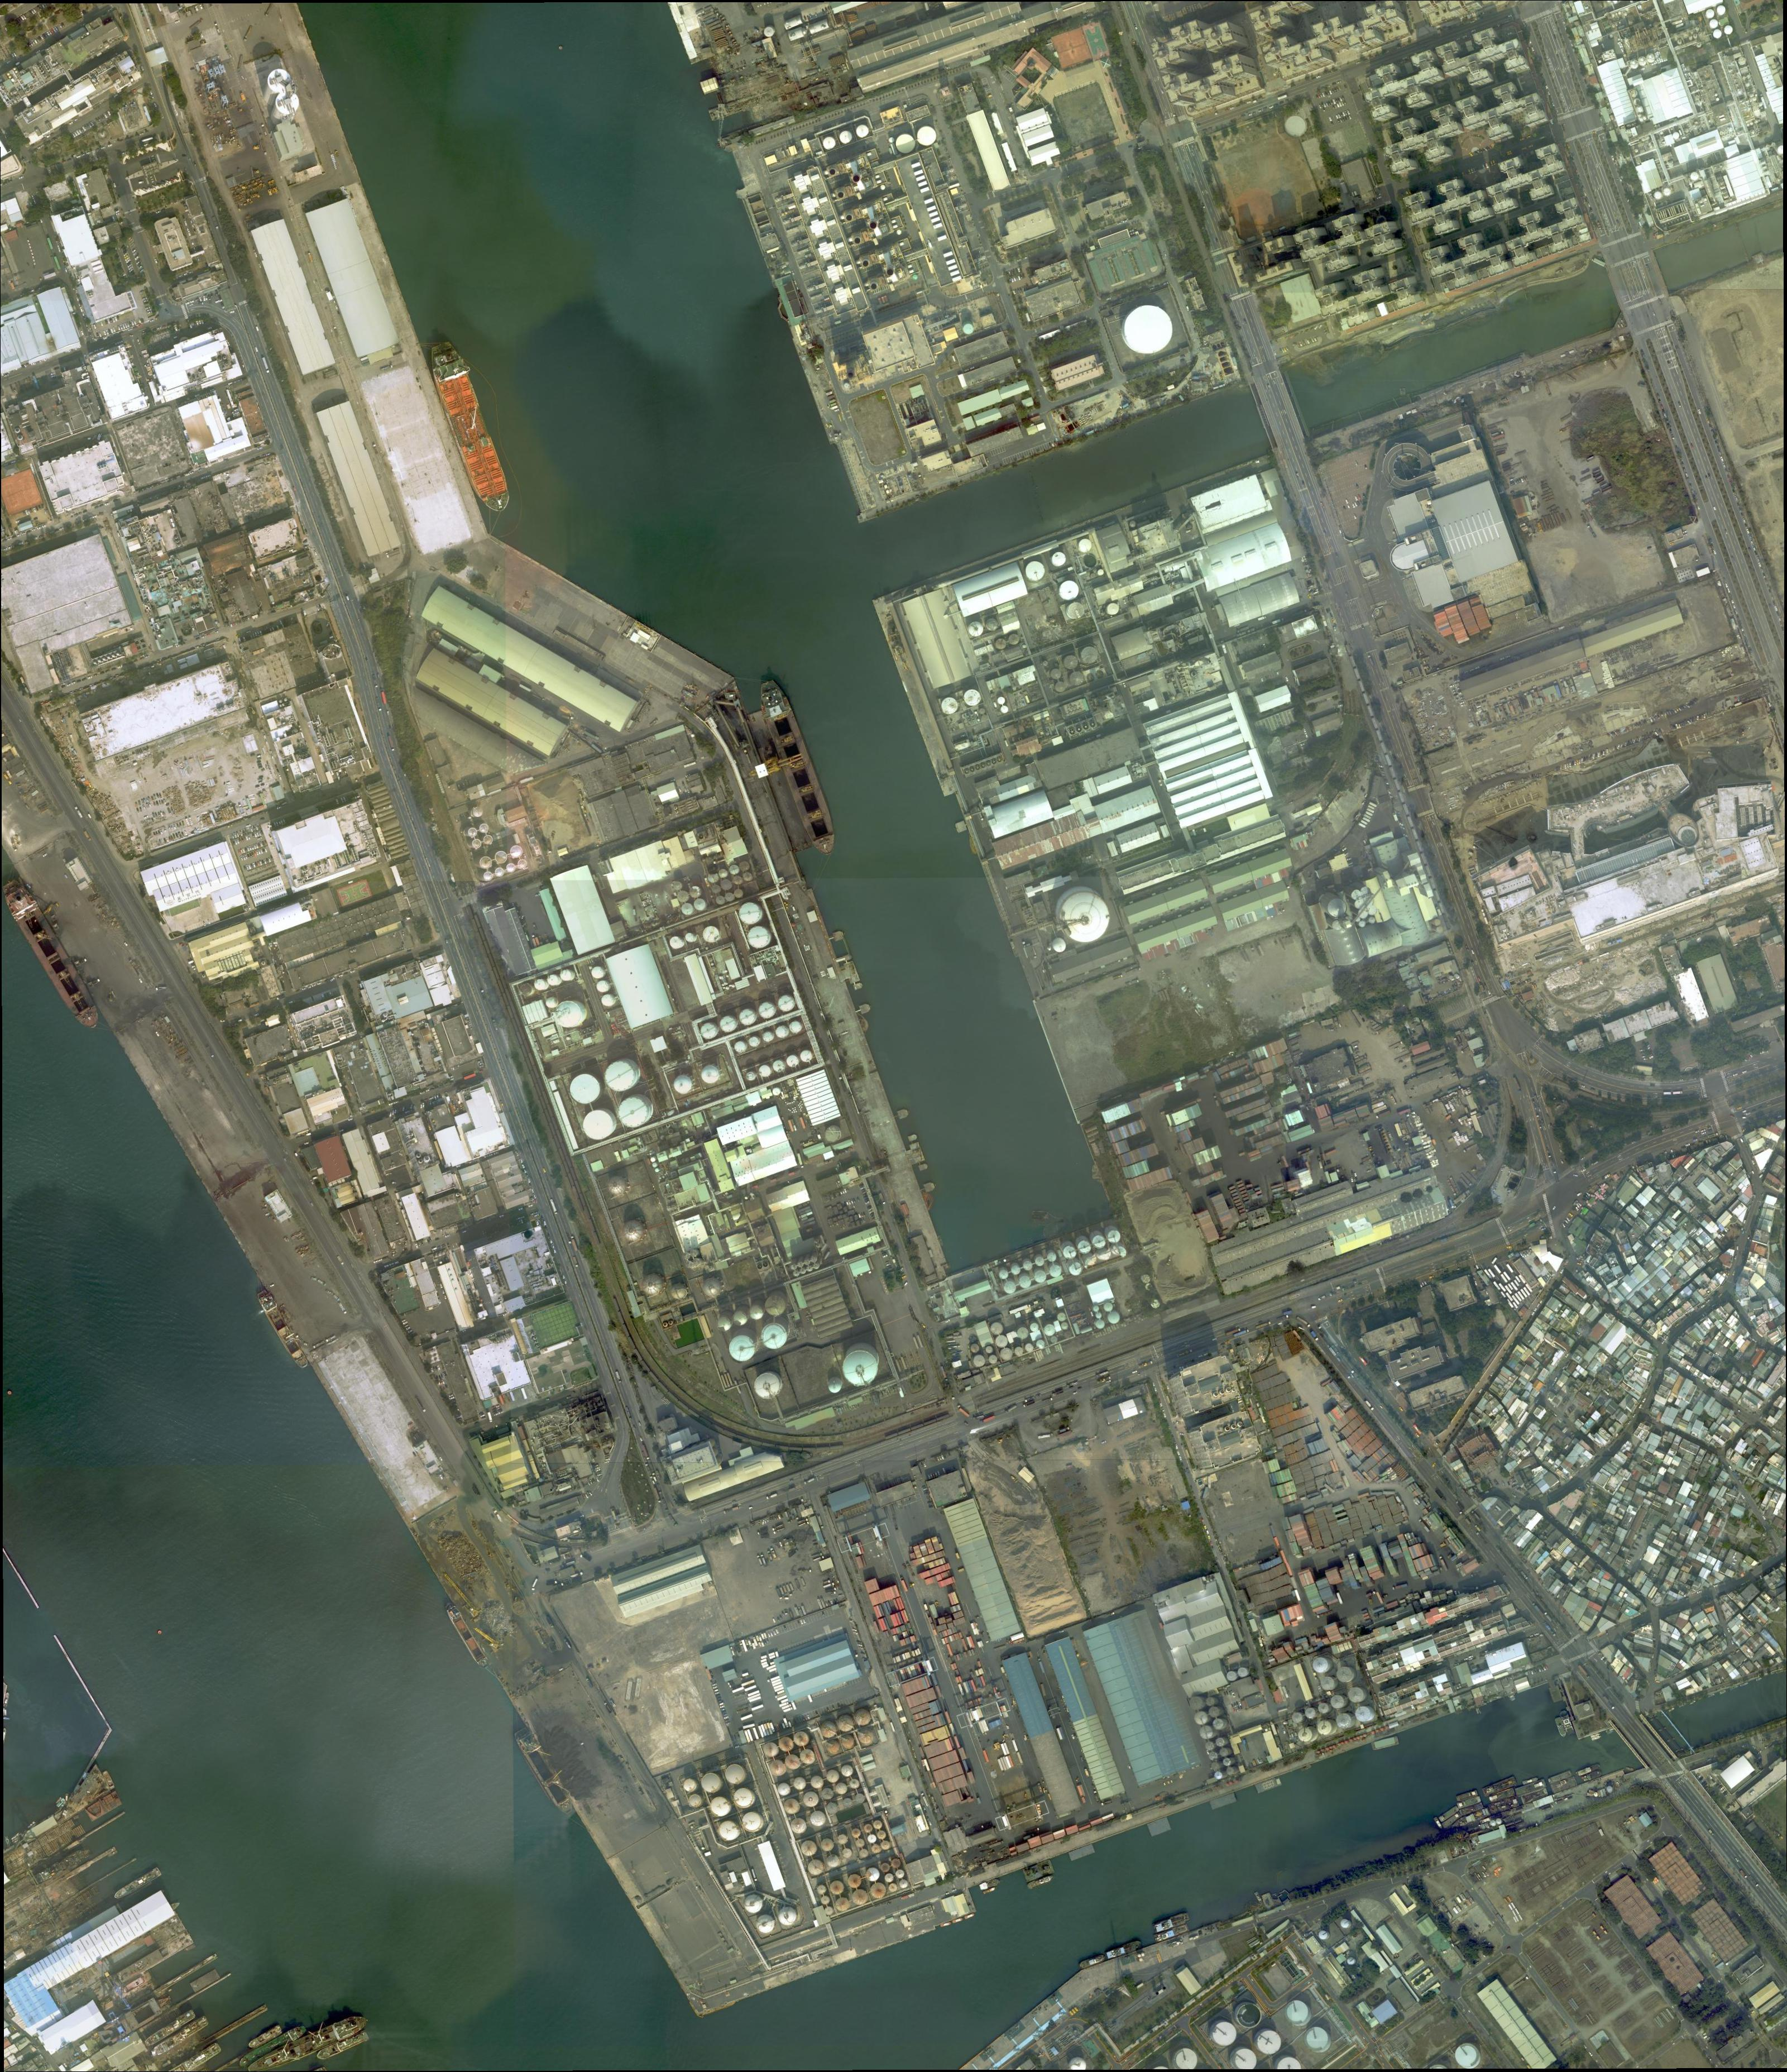harbor: (204, 2003, 268, 2046), (4, 1547, 39, 1609), (164, 1952, 219, 1989), (176, 1973, 231, 2009), (85, 1811, 127, 1838)
ship: (753, 677, 844, 860), (2, 876, 108, 1034), (421, 338, 515, 516), (229, 2012, 370, 2072), (513, 1727, 576, 1817), (256, 1288, 310, 1371), (238, 2023, 308, 2068), (444, 1602, 490, 1670), (150, 2016, 210, 2058), (143, 2009, 197, 2049), (113, 1866, 162, 1901), (315, 2031, 370, 2061), (167, 2042, 222, 2072), (69, 1846, 116, 1878), (1450, 1806, 1491, 1831), (247, 2024, 282, 2049), (1153, 1912, 1191, 1933), (1107, 1940, 1144, 1961), (1482, 1776, 1517, 1797), (1154, 1924, 1190, 1943), (1487, 1795, 1519, 1815), (1516, 1780, 1547, 1797), (1521, 1787, 1549, 1804), (1551, 1776, 1579, 1794), (1026, 1875, 1056, 1891), (1560, 1709, 1576, 1737), (1079, 1954, 1107, 1970), (1489, 1788, 1516, 1804), (1456, 1795, 1482, 1809), (1576, 1764, 1602, 1778), (1459, 1802, 1484, 1817), (1547, 1771, 1572, 1785), (1438, 1806, 1459, 1822), (1456, 1788, 1479, 1802), (1554, 1716, 1568, 1739), (978, 1878, 1001, 1892), (1442, 1813, 1461, 1829), (1581, 1771, 1604, 1783), (102, 1771, 116, 1790), (983, 1885, 999, 1896), (939, 1920, 952, 1928), (952, 1917, 964, 1924), (964, 1913, 975, 1919)
